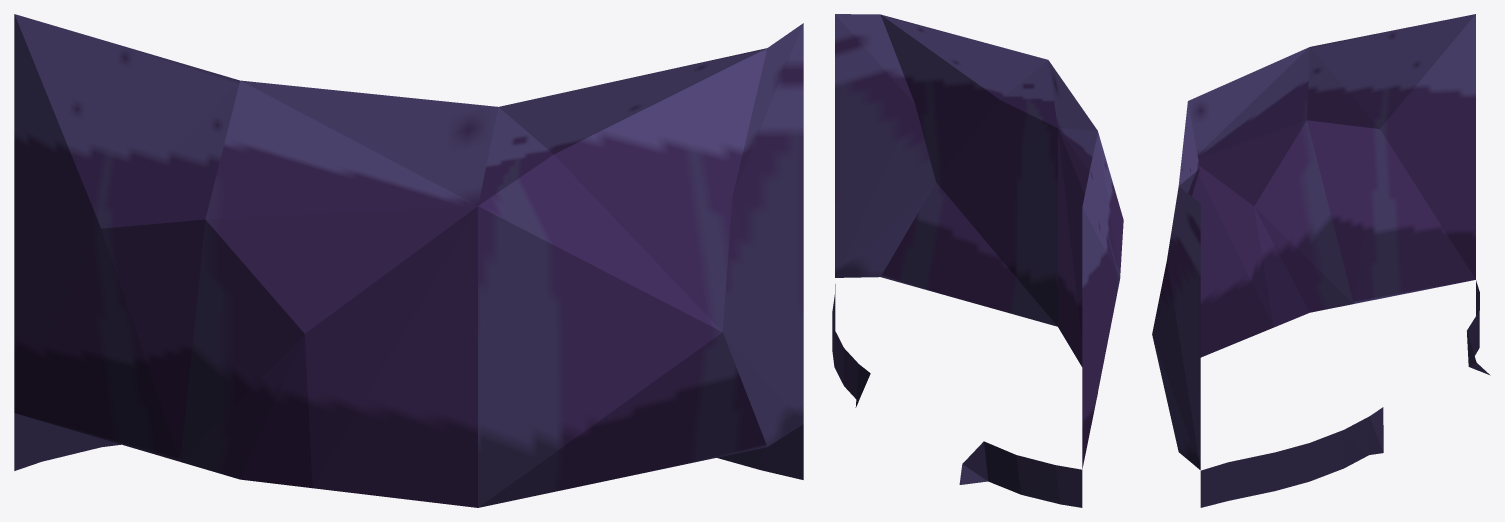
3 renders of one model, left to right at view 1: azimuth 30°, elevation 25°; view 2: azimuth 150°, elevation 25°; view 3: azimuth 270°, elevation 25°, orthographic. The views are drawn at different scales.
Visible parts, largest first — view 1: Mapa Base.008; view 2: Mapa Base.008; view 3: Mapa Base.008.
Part boxes in pixels (box(x1,y1,x2,y2)): Mapa Base.008: box(14, 14, 803, 507); Mapa Base.008: box(832, 14, 1123, 507); Mapa Base.008: box(1152, 14, 1490, 507).
Size of the model in its own units: 19909 by 15049 by 14929.
1 material, 1 textured.
